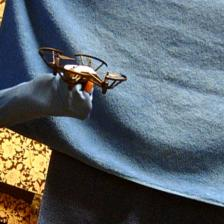drone: (39, 48, 129, 98)
